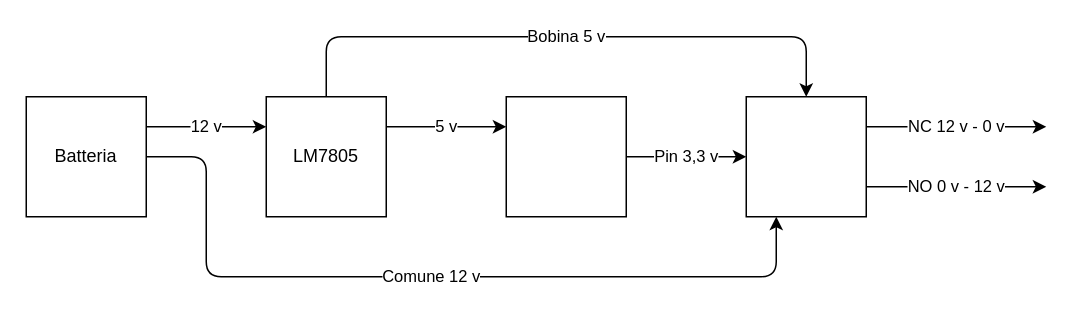
Some shapes in this 1085 by 315 pixel diagram are drawn without their labels. The box of each missing label's shape, as (x1, y1, x2, y2) in pixels:
ESP32: (505, 95, 626, 217)
Relè: (745, 95, 866, 217)
